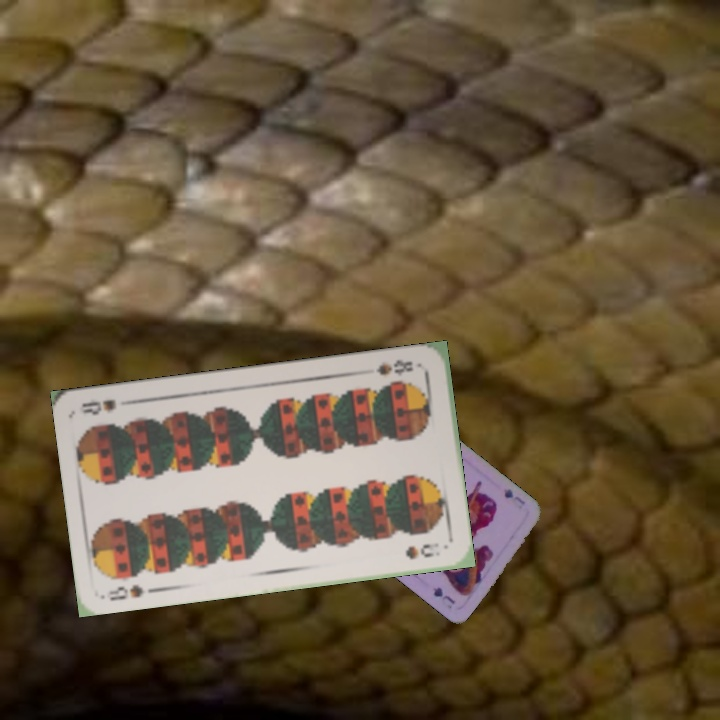GU: (500, 485, 528, 507)
S8: (372, 355, 416, 378), (105, 580, 146, 604)
